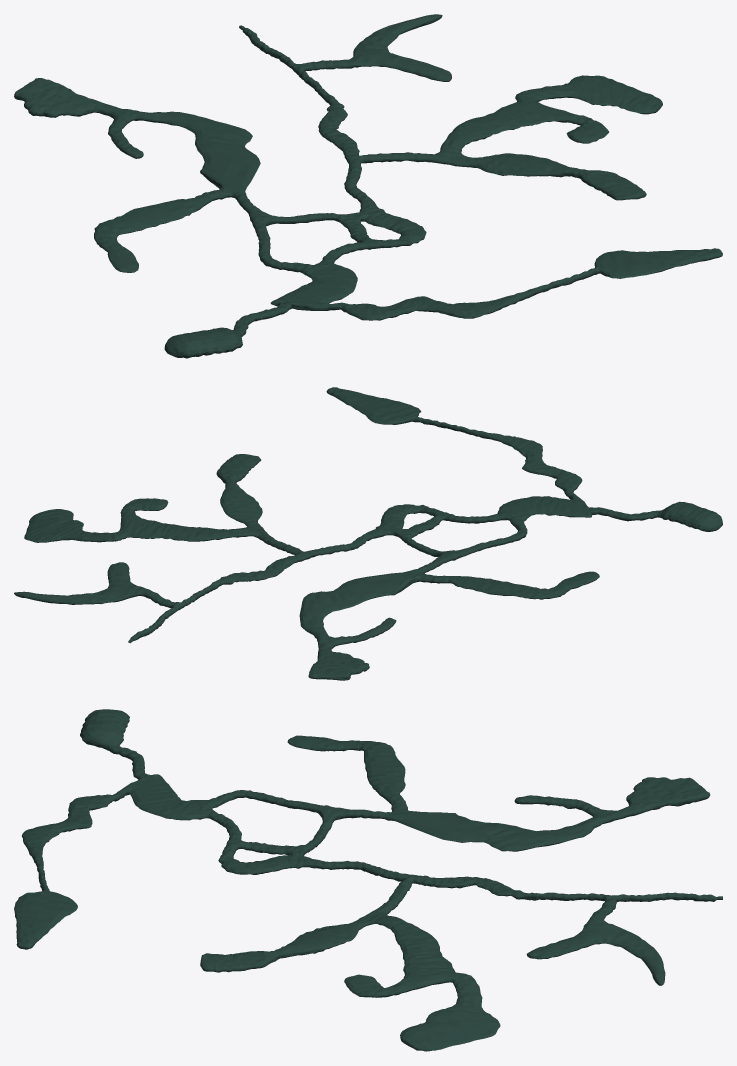
The model's file is Cave_Texture.fbx.
3 views of the same model, one above another, from view 1: azimuth 30°, elevation 25°; view 2: azimuth 150°, elevation 25°; view 3: azimuth 270°, elevation 25° (orthographic). The views are drawn at different scales.
Parts seen in each view (by area): view 1: Cube; view 2: Cube; view 3: Cube.
Part boxes in pixels (x1=…): Cube: x1=14, y1=14, x2=722, y2=358; Cube: x1=14, y1=387, x2=722, y2=680; Cube: x1=14, y1=709, x2=722, y2=1051.
Bounding box in the file's own units: 31019 × 1872 × 29864.
1 material, 1 textured.
